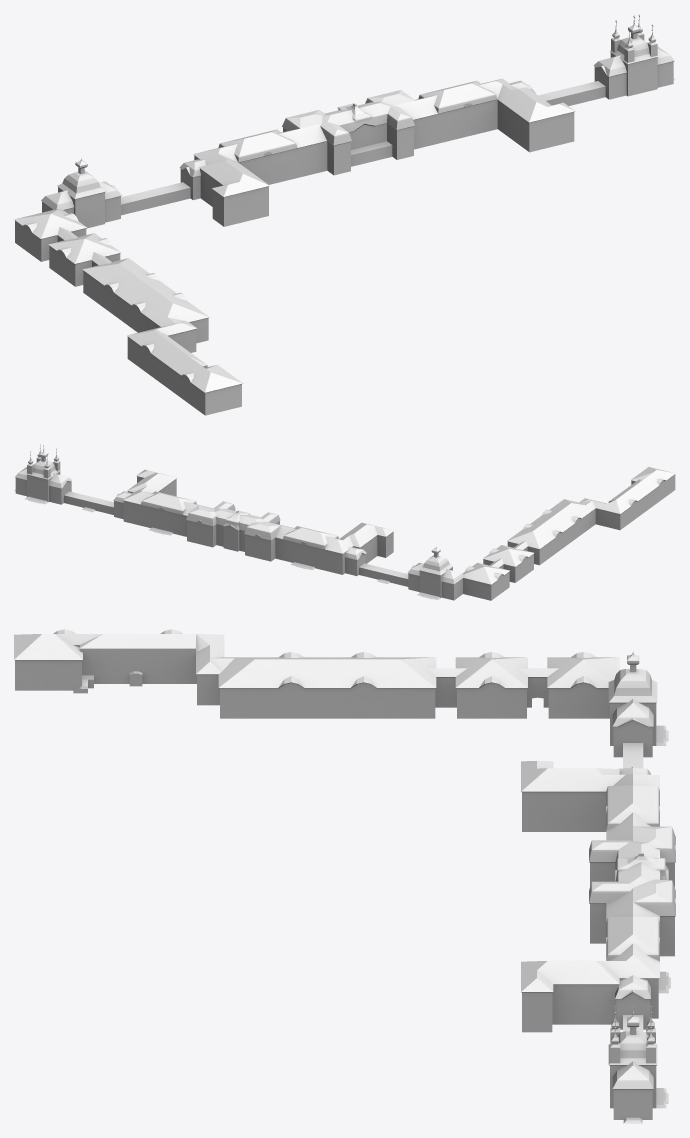
File: petergof.dae
3 renders of one model, top to bottom at view 1: azimuth 30°, elevation 25°; view 2: azimuth 150°, elevation 25°; view 3: azimuth 270°, elevation 25°, orthographic. The views are drawn at different scales.
Visible parts, largest first — view 1: petergof; view 2: petergof; view 3: petergof.
Boxes of the visible parts, x1,y1,x2,y2 form: petergof: (14,14,675,415); petergof: (14,444,675,600); petergof: (14,629,675,1123).
Size of the model in its own units: 0.4782 by 0.2923 by 0.0467.
Materials: 1 (1 with a texture image).
